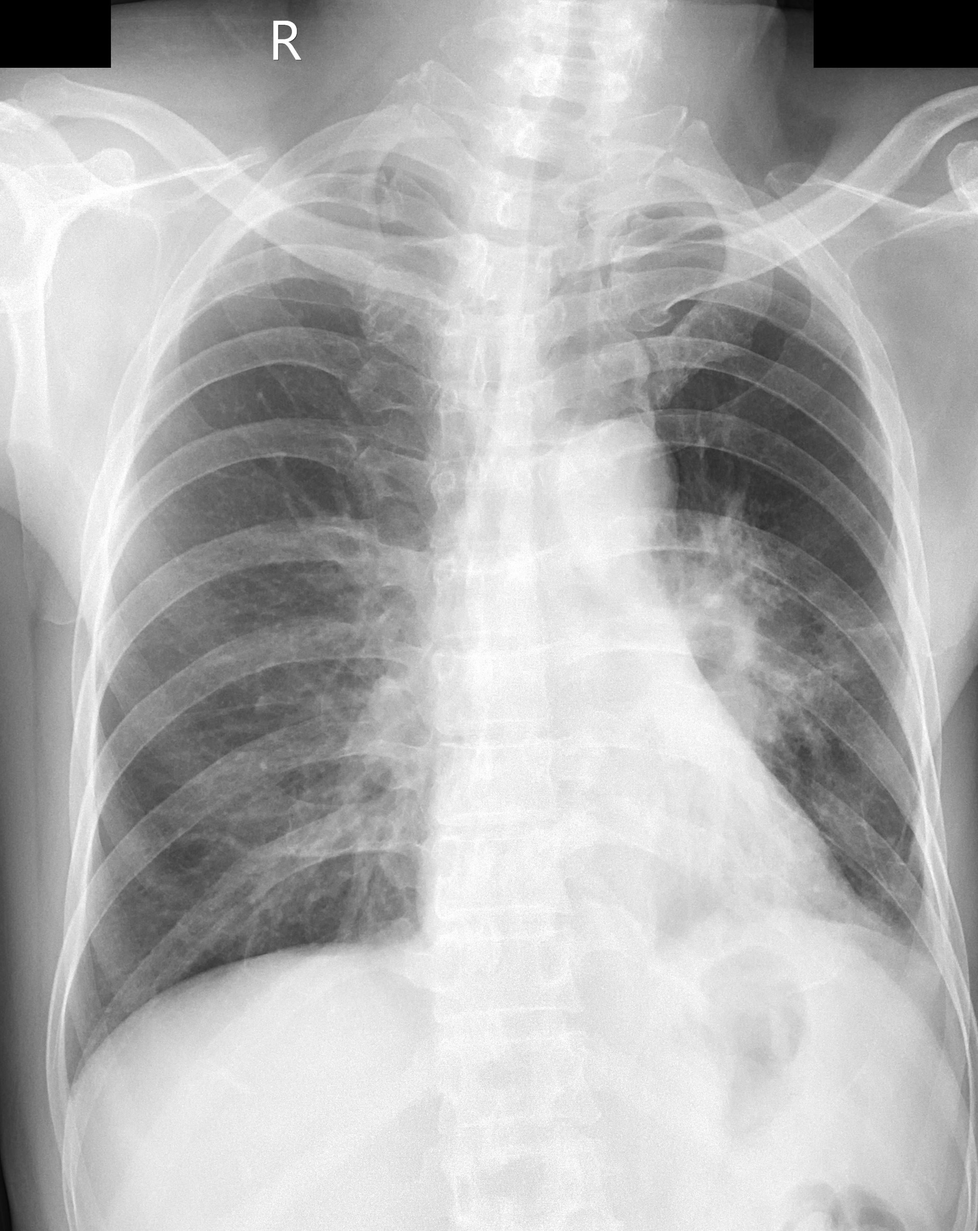Aortic enlargement: (552, 414, 678, 546)
Cardiomegaly: (414, 886, 878, 988)
Pleural thickening: (607, 190, 765, 250), (298, 154, 460, 188)
Pulmonary fibrosis: (849, 780, 923, 906), (681, 396, 718, 460)
